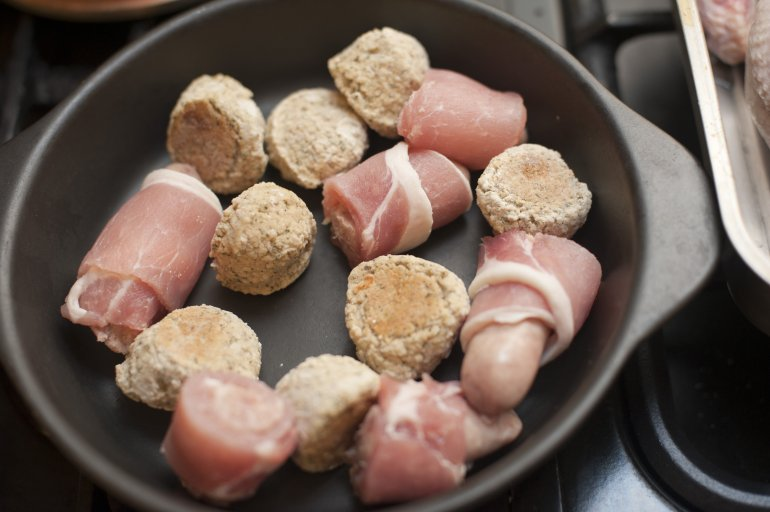bacon: (72, 166, 218, 358), (459, 221, 605, 363), (322, 135, 469, 255), (394, 55, 516, 167)
